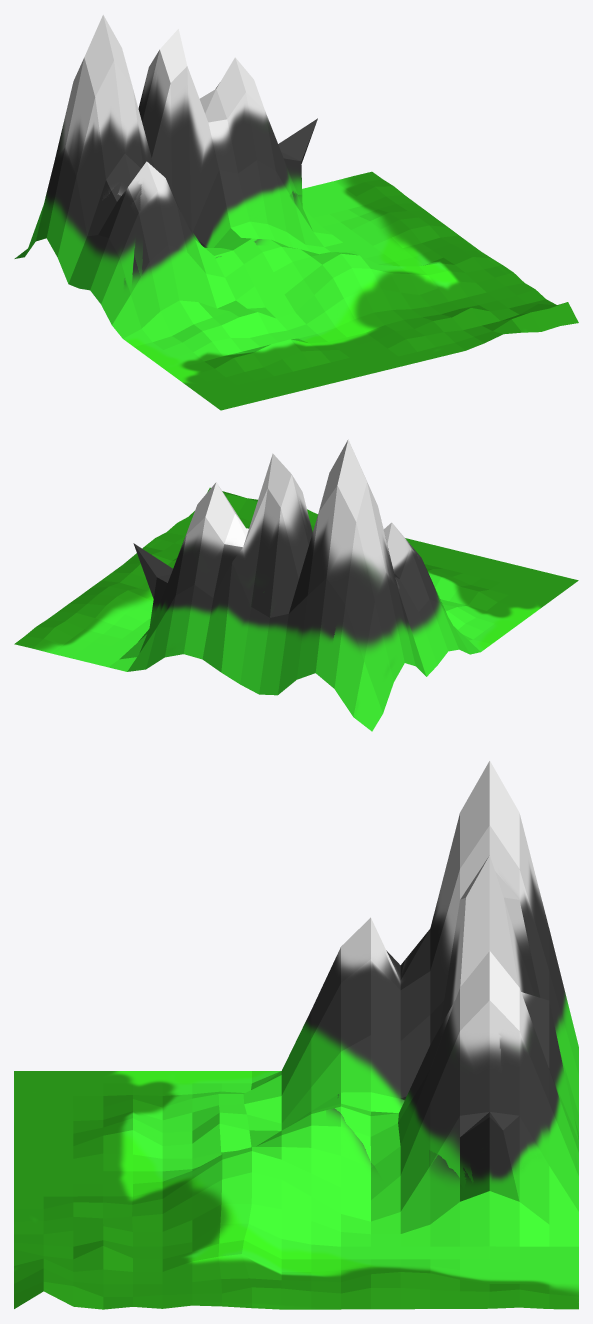
File: mountainsTest.glb
The picture shows the model from 3 angles, top to bottom: view 1: azimuth 30°, elevation 25°; view 2: azimuth 150°, elevation 25°; view 3: azimuth 270°, elevation 25°; orthographic projection. The views are drawn at different scales.
Visible parts, largest first — view 1: Grid; view 2: Grid; view 3: Grid.
Boxes of the visible parts, x1,y1,x2,y2 form: Grid: (14,15,578,410); Grid: (14,439,578,731); Grid: (14,760,578,1309).
Bounding box in the file's own units: 4572 × 3109 × 4572.
Materials: 1 (1 with a texture image).
